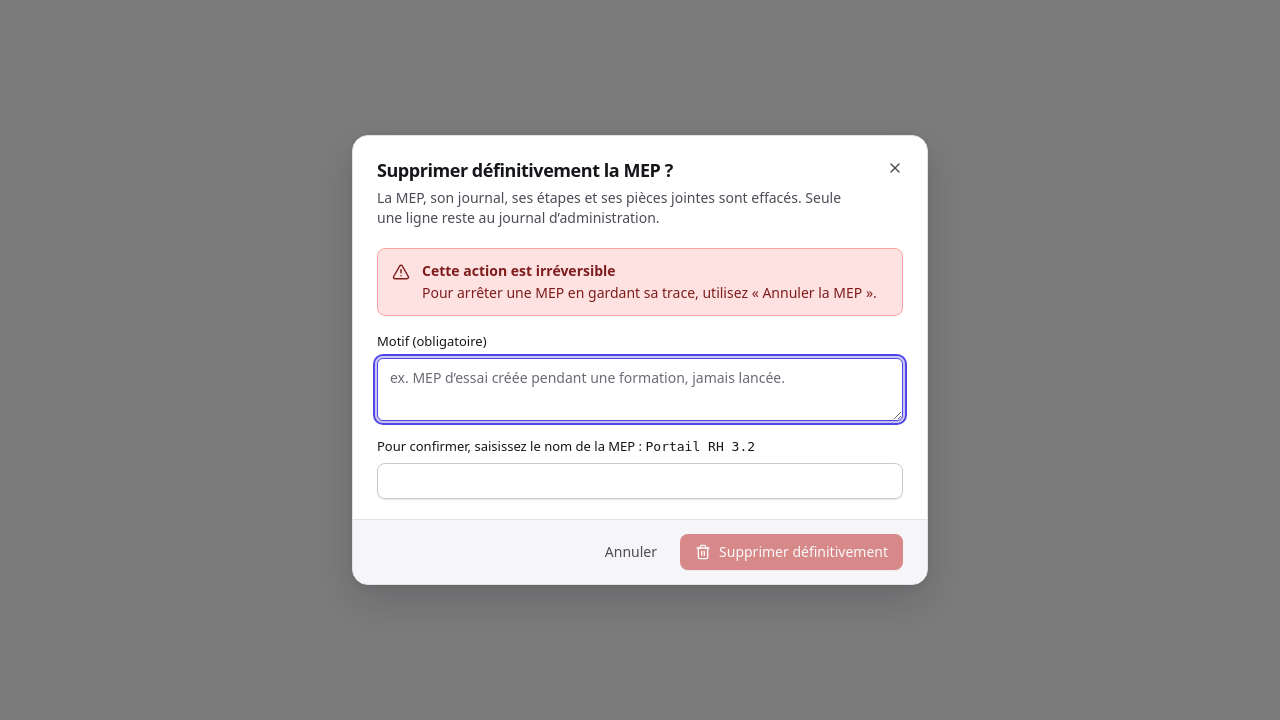
supprimer définitivement › exige le motif et le nom exact, puis revient à la liste
The width and height of the screenshot is (1280, 720).
In the text box labelled "Motif (obligatoire)": (640, 390) [377, 358, 903, 421], type "Créée par erreur"
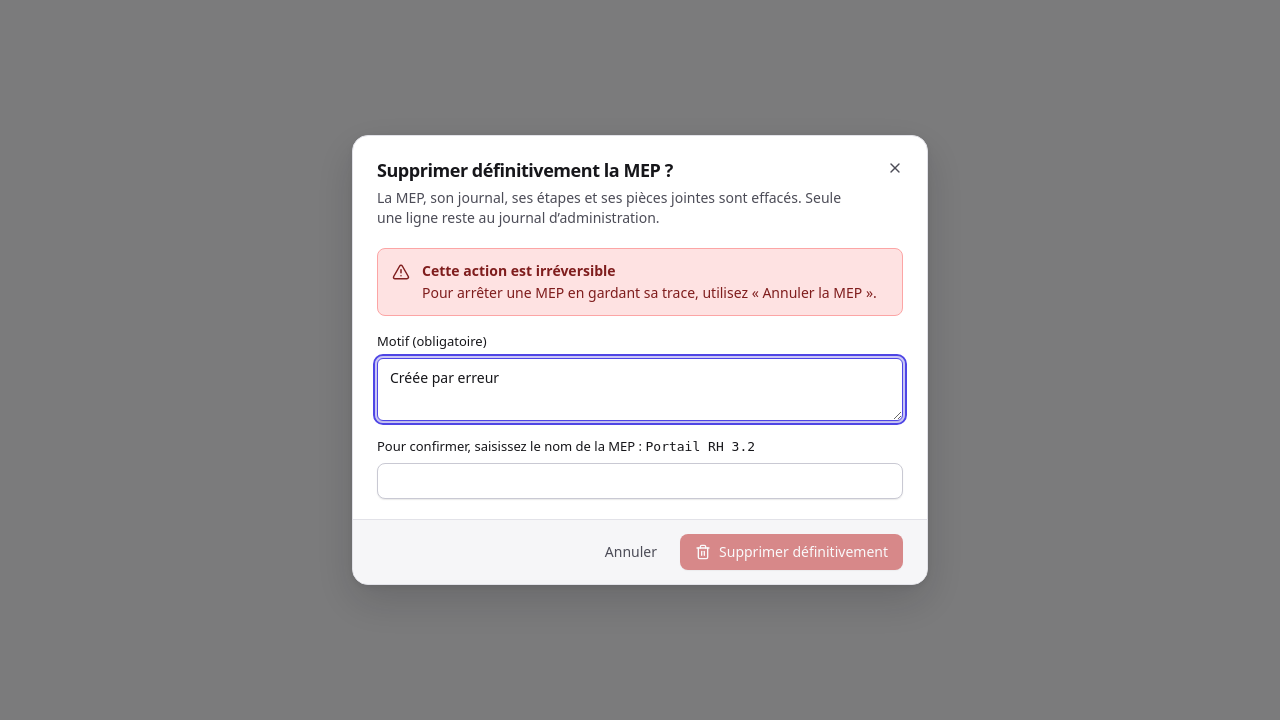
In the field labelled "Pour confirmer, saisissez le nom de la MEP : Portail RH 3.2": (640, 481) [377, 463, 903, 499], type "Portail RH"
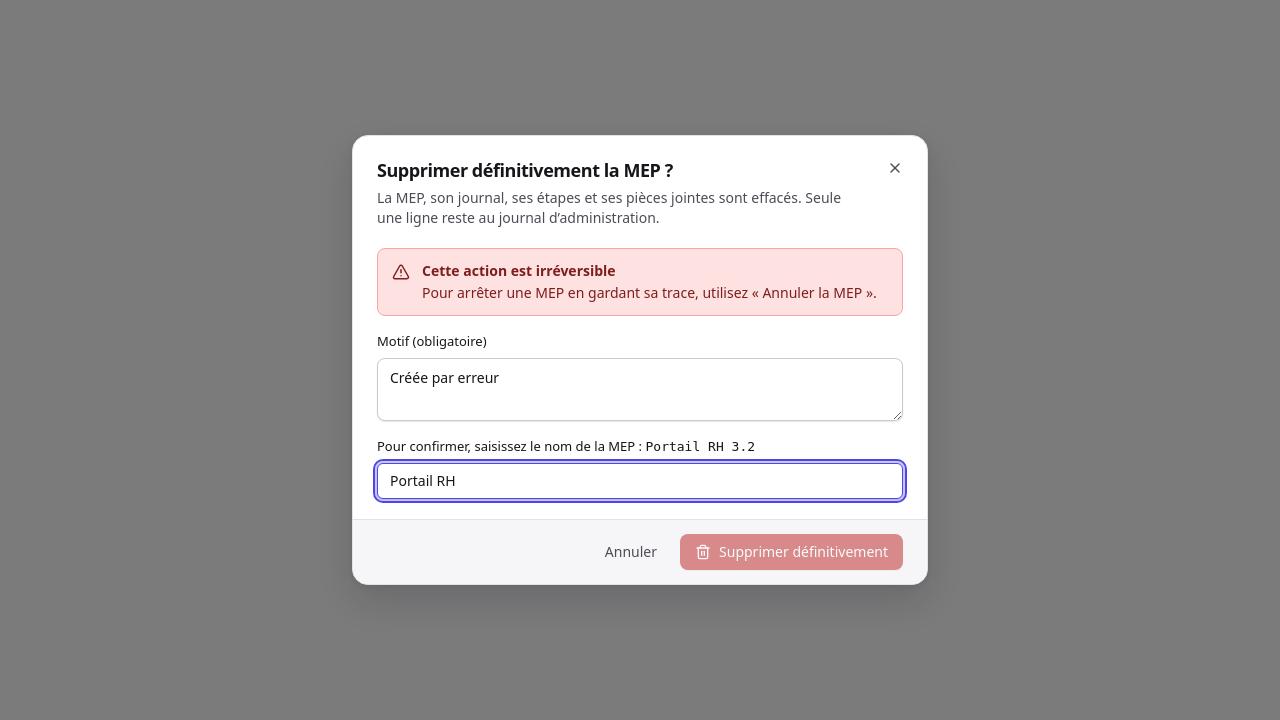
Expected: the button "Supprimer définitivement" is disabled, [680, 534, 903, 570]
In the field labelled "Pour confirmer, saisissez le nom de la MEP : Portail RH 3.2": (640, 481) [377, 463, 903, 499], type " 3.2"
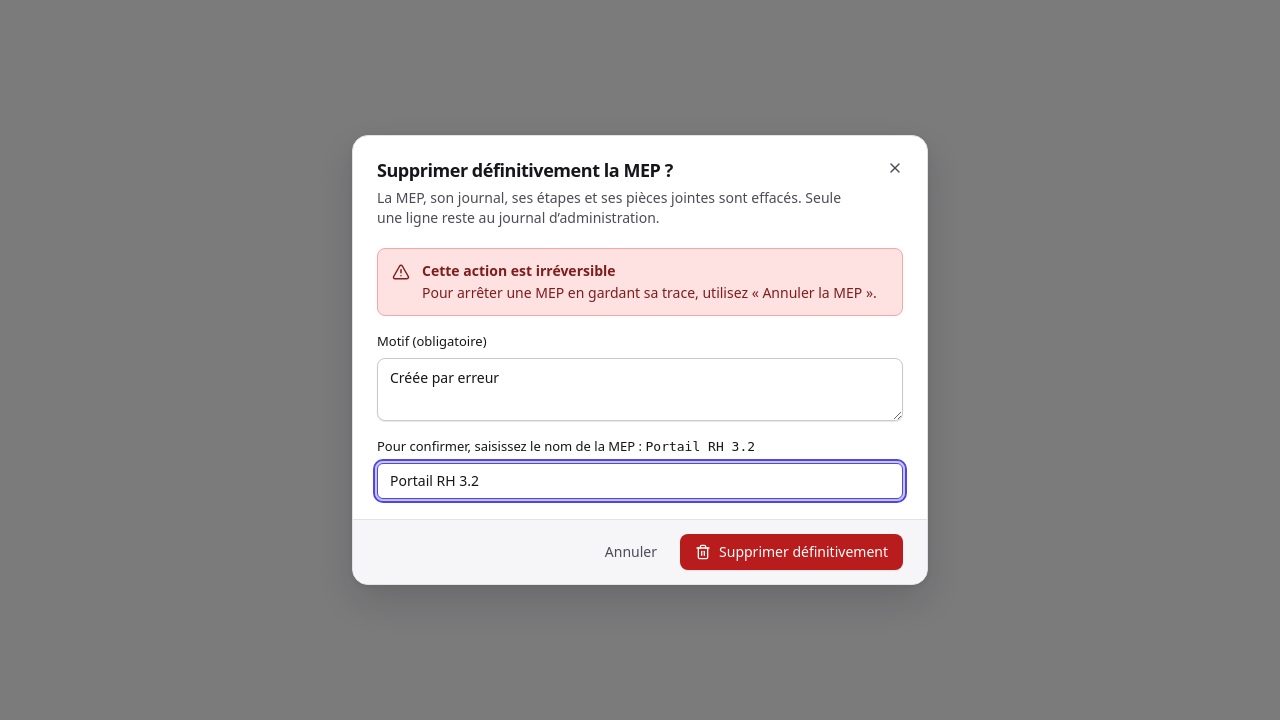
Expected: the button "Supprimer définitivement" is enabled
Click the button "Supprimer définitivement": (792, 552) [680, 534, 903, 570]
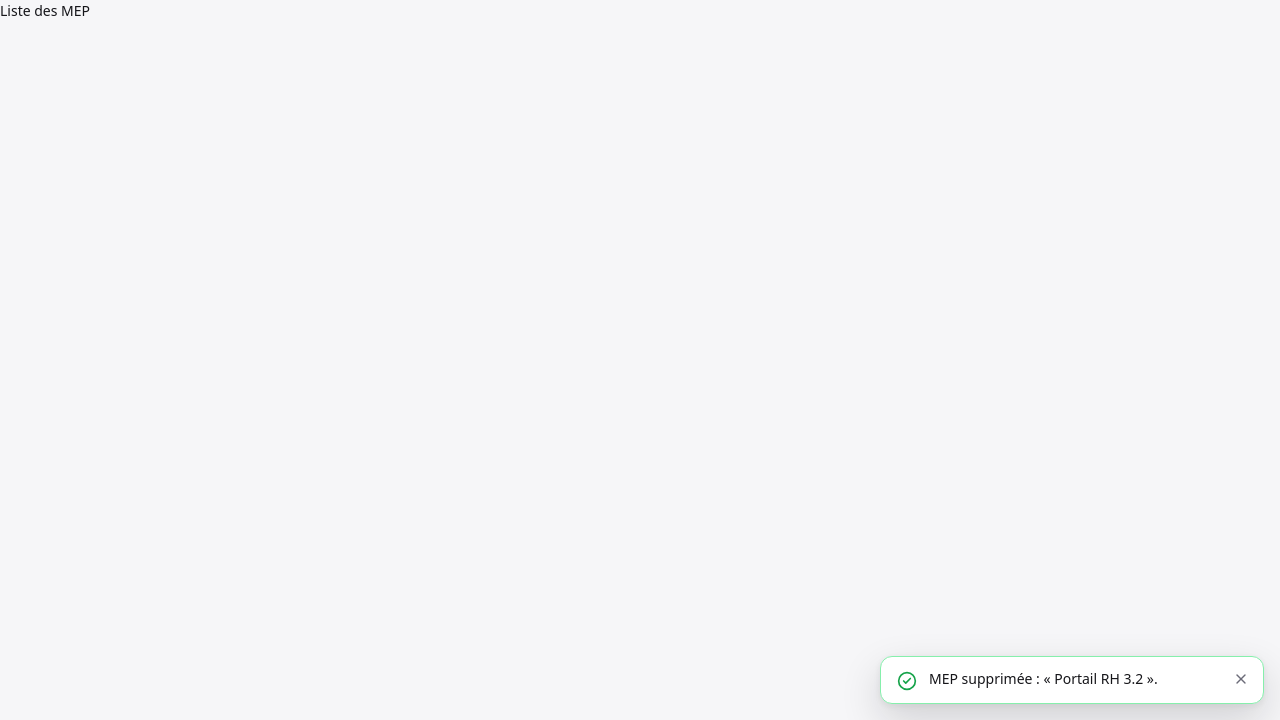
Expected: the text "Liste des MEP" is shown, [0, 1, 90, 20]
